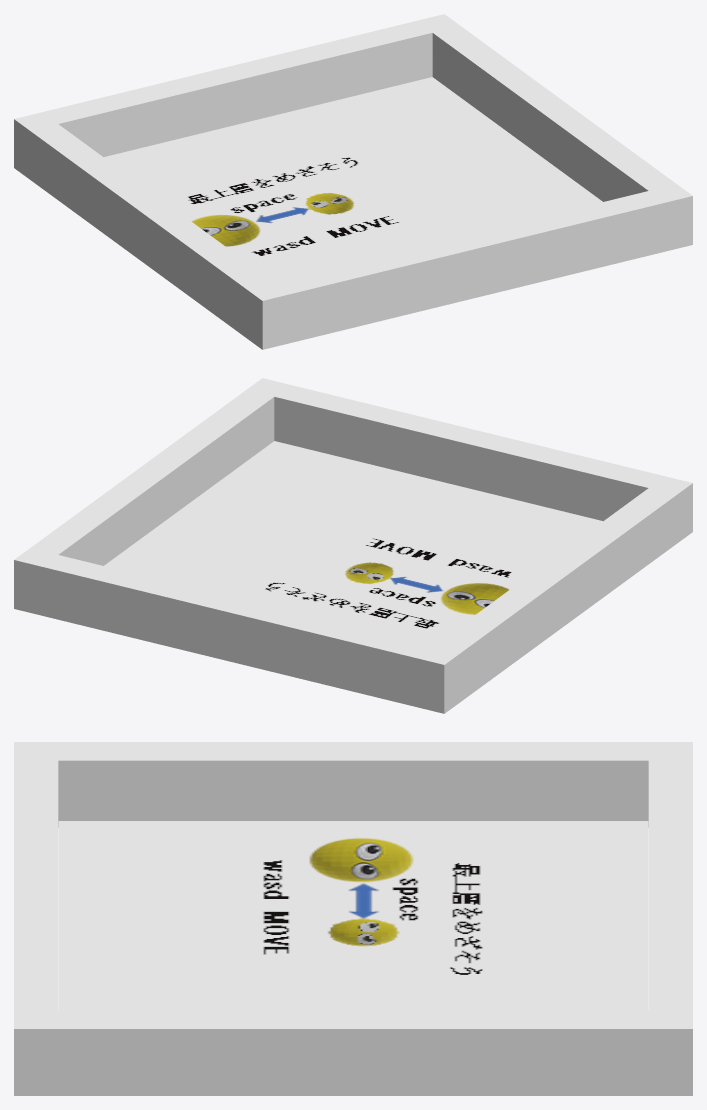
Rendered from floor0.fbx.
3 renders of one model, top to bottom at view 1: azimuth 30°, elevation 25°; view 2: azimuth 150°, elevation 25°; view 3: azimuth 270°, elevation 25°, orthographic. The views are drawn at different scales.
Visible parts, largest first — view 1: 立方体.021, 立方体.019, 立方体.020, 立方体.018, 立方体.017, 立方体.016, 立方体.015, 立方体.013; view 2: 立方体.021, 立方体.020, 立方体.019, 立方体.018, 立方体.017, 立方体.013, 立方体.014, 立方体.016; view 3: 立方体.021, 立方体.017, 立方体.018, 立方体.019, 立方体.020, 立方体.014, 立方体.015, 立方体.013, 立方体.016.
Part boxes in pixels (box(x1,y1,x2,y2)): 立方体.021: box(104, 77, 602, 282); 立方体.019: box(275, 191, 664, 342); 立方体.020: box(42, 21, 432, 157); 立方体.018: box(30, 124, 273, 337); 立方体.017: box(432, 26, 676, 201); 立方体.016: box(246, 282, 290, 349); 立方体.015: box(649, 184, 692, 251); 立方体.013: box(14, 112, 57, 179); 立方体.021: box(104, 441, 602, 646); 立方体.020: box(42, 555, 431, 706); 立方体.019: box(274, 385, 664, 521); 立方体.018: box(433, 488, 676, 701); 立方体.017: box(30, 390, 274, 565); 立方体.013: box(416, 646, 460, 713); 立方体.014: box(14, 548, 57, 615); 立方体.016: box(649, 476, 692, 543); 立方体.021: box(58, 821, 648, 1010); 立方体.017: box(58, 1010, 648, 1095); 立方体.018: box(58, 742, 648, 827); 立方体.019: box(14, 760, 58, 1010); 立方体.020: box(648, 760, 692, 1010); 立方体.014: box(648, 1010, 692, 1095); 立方体.015: box(14, 1010, 58, 1095); 立方体.013: box(648, 742, 692, 760); 立方体.016: box(14, 742, 58, 760).
Bounding box in the file's own units: 9200 × 1100 × 9200.
Materials: 9 (1 with a texture image).
